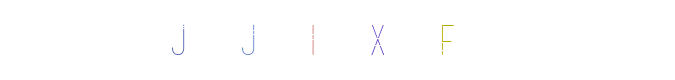F: (404, 0, 484, 80)
I: (280, 0, 360, 80)
J: (233, 0, 313, 80), (275, 0, 355, 80)
X: (297, 0, 377, 80)
